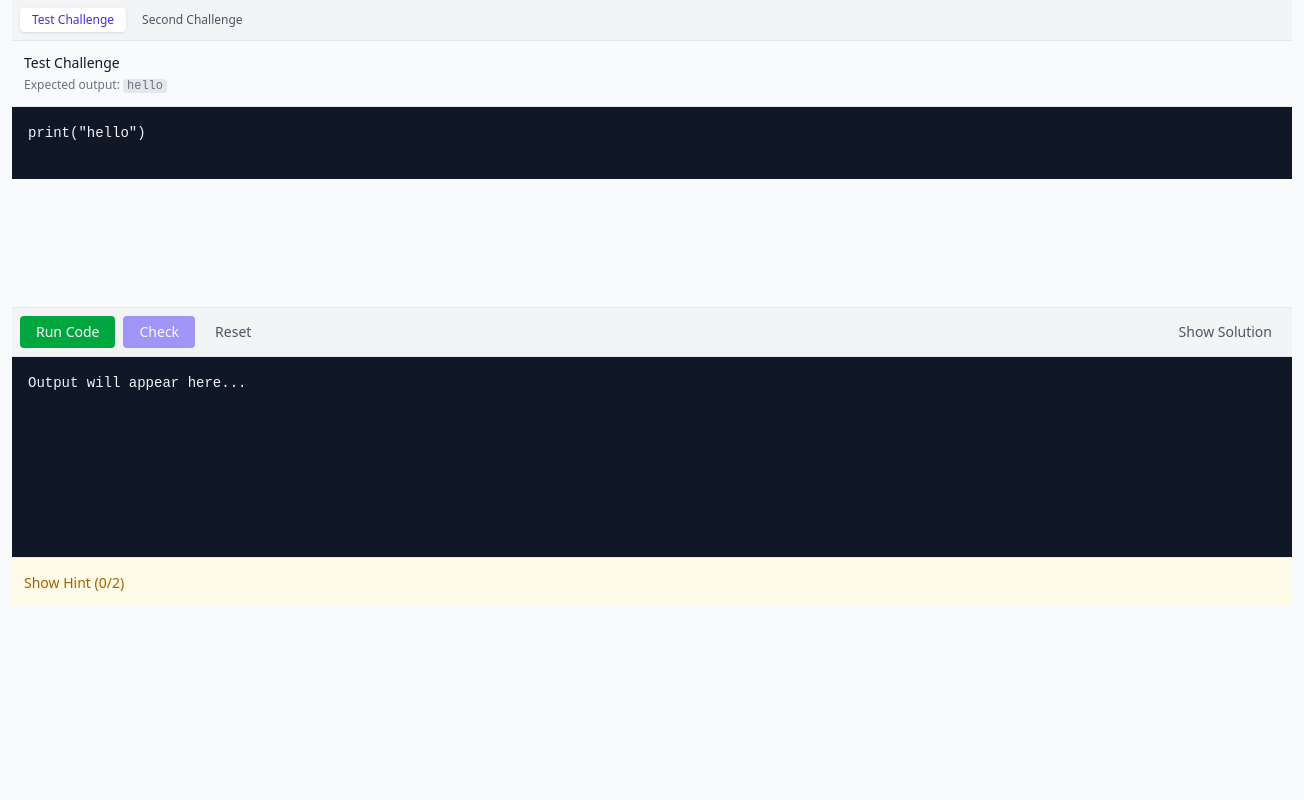
Test: CodeSandbox › shows hints when clicking hint button
This screenshot has width=1304, height=800.
Click the button "Show Hint (0/2)": (74, 583) [24,573,124,593]
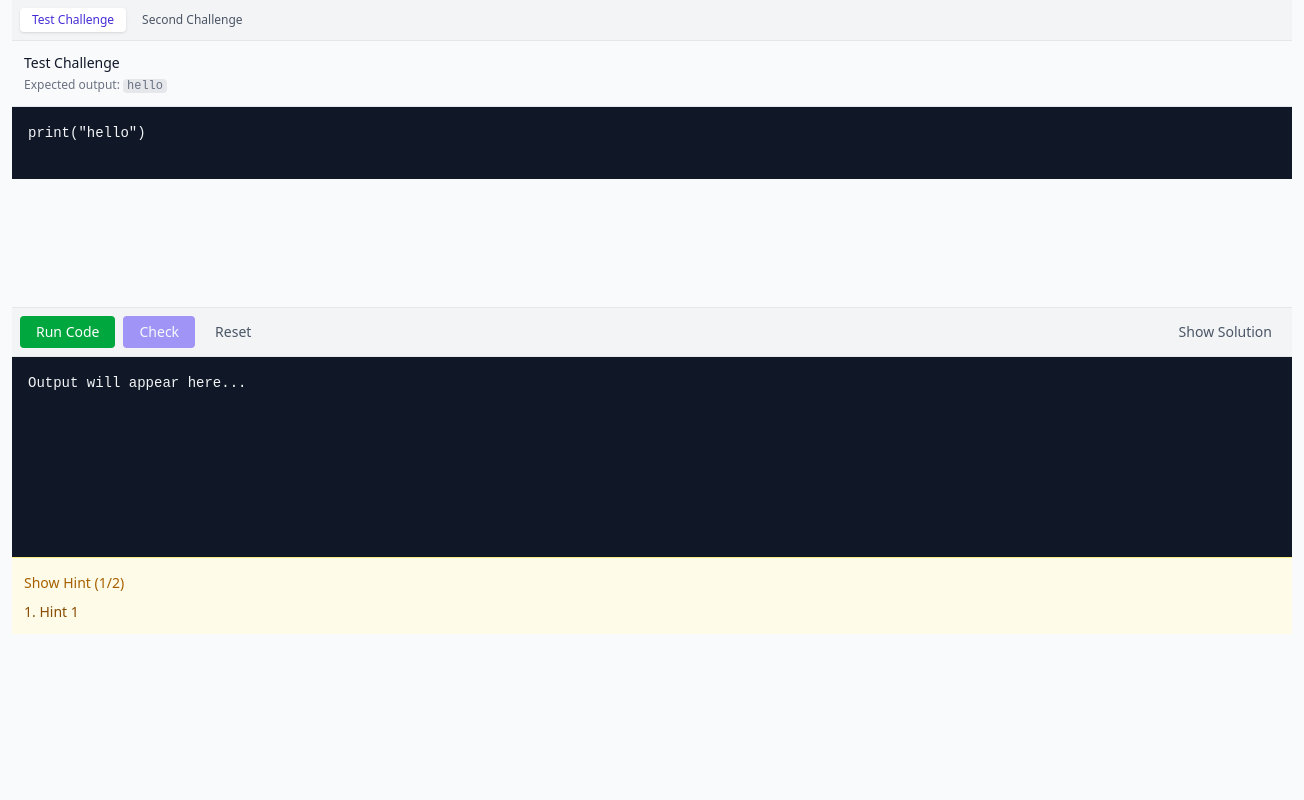
Now the list item "1. Hint 1" is shown, box [24,602,79,621]
